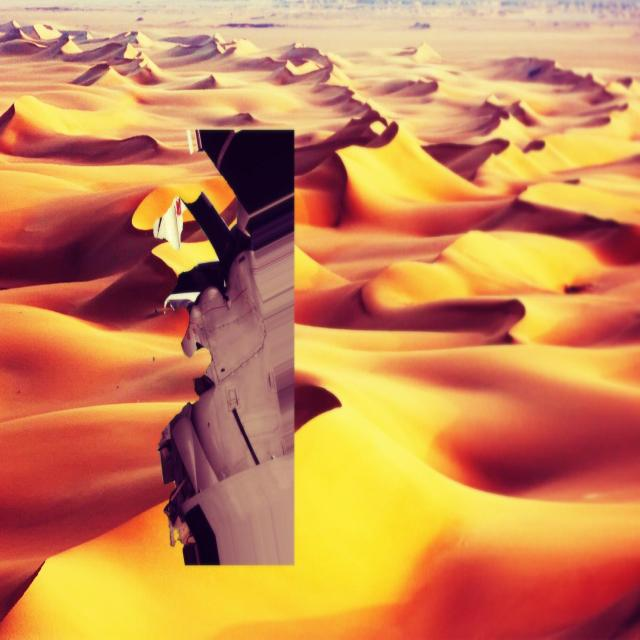airplane: (150, 129, 294, 564)
